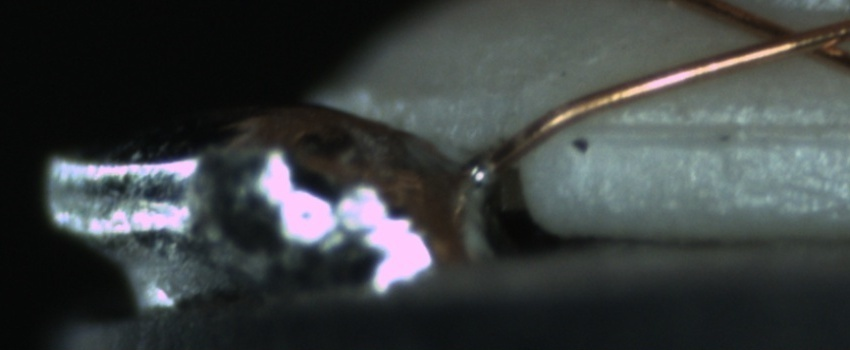CL: (728, 5, 850, 67)
DL: (577, 99, 844, 162)
